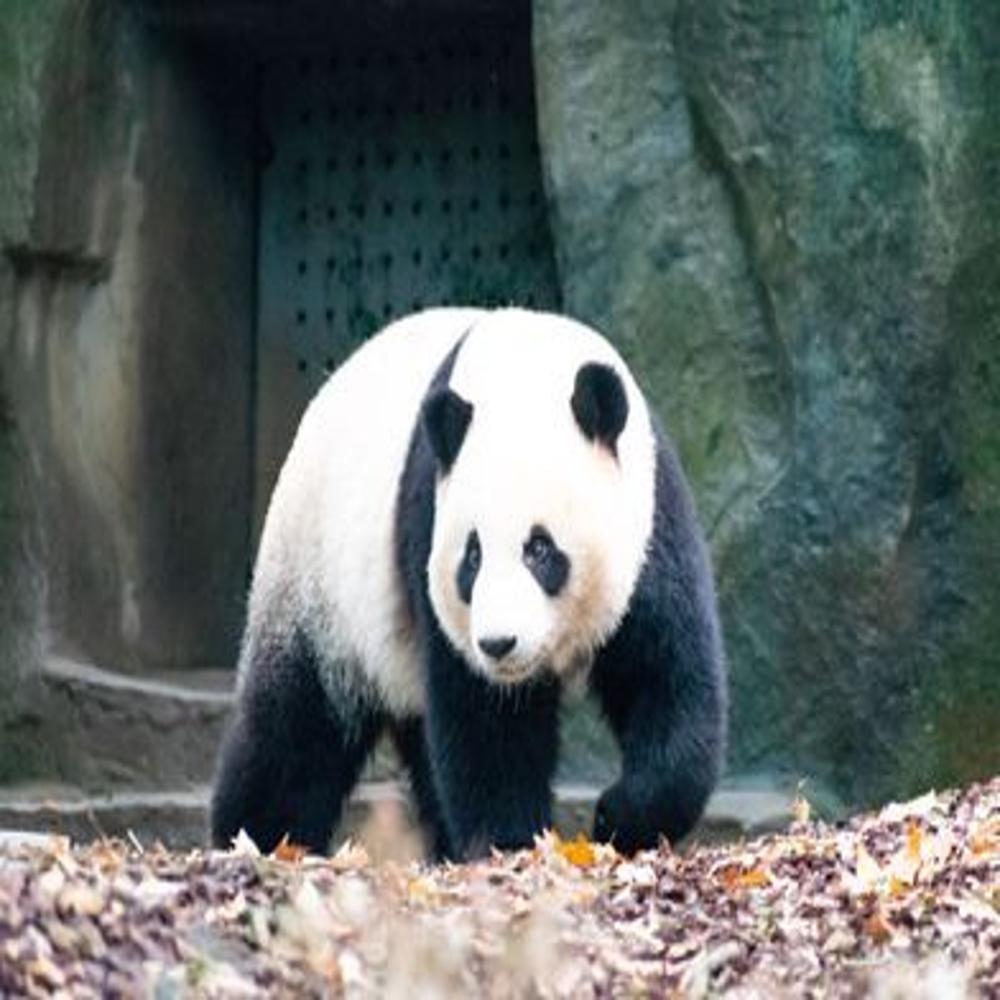panda: (204, 300, 730, 858)
